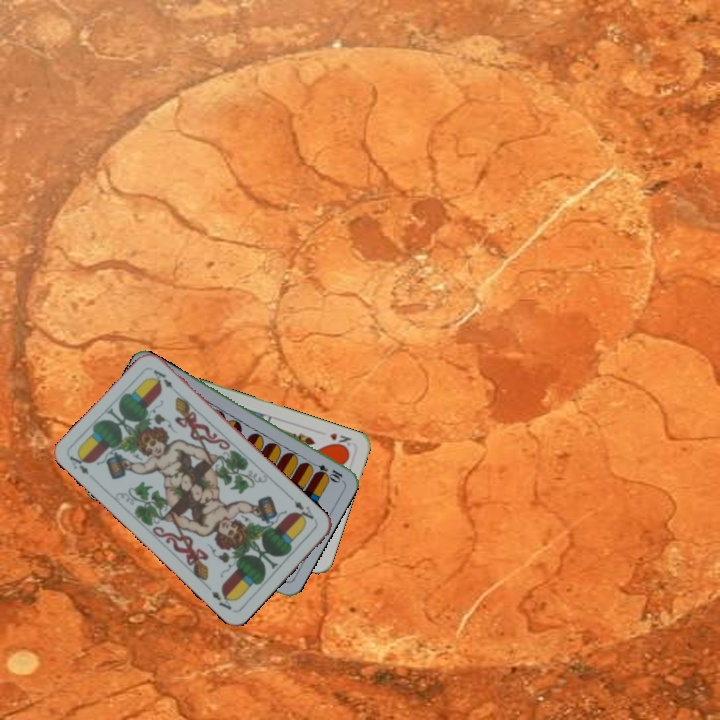E10: (306, 458, 345, 484)
EA: (290, 496, 319, 525), (65, 449, 92, 478)
HK: (326, 429, 354, 452)
